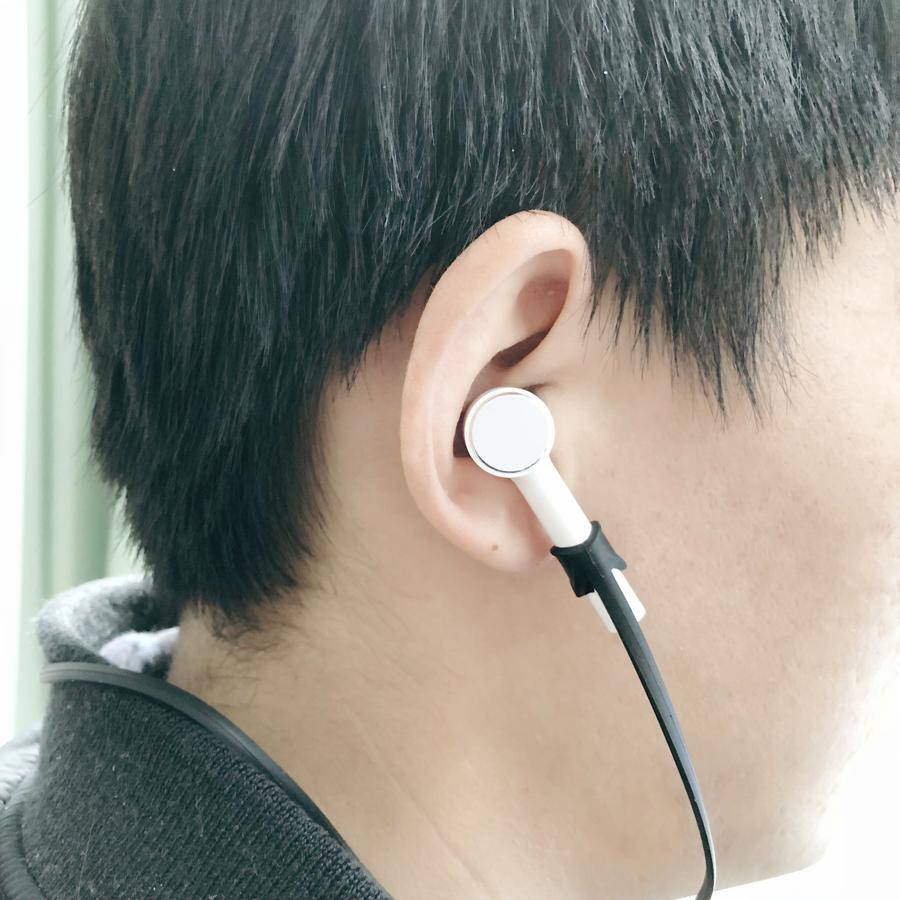earphone: (446, 351, 593, 542)
